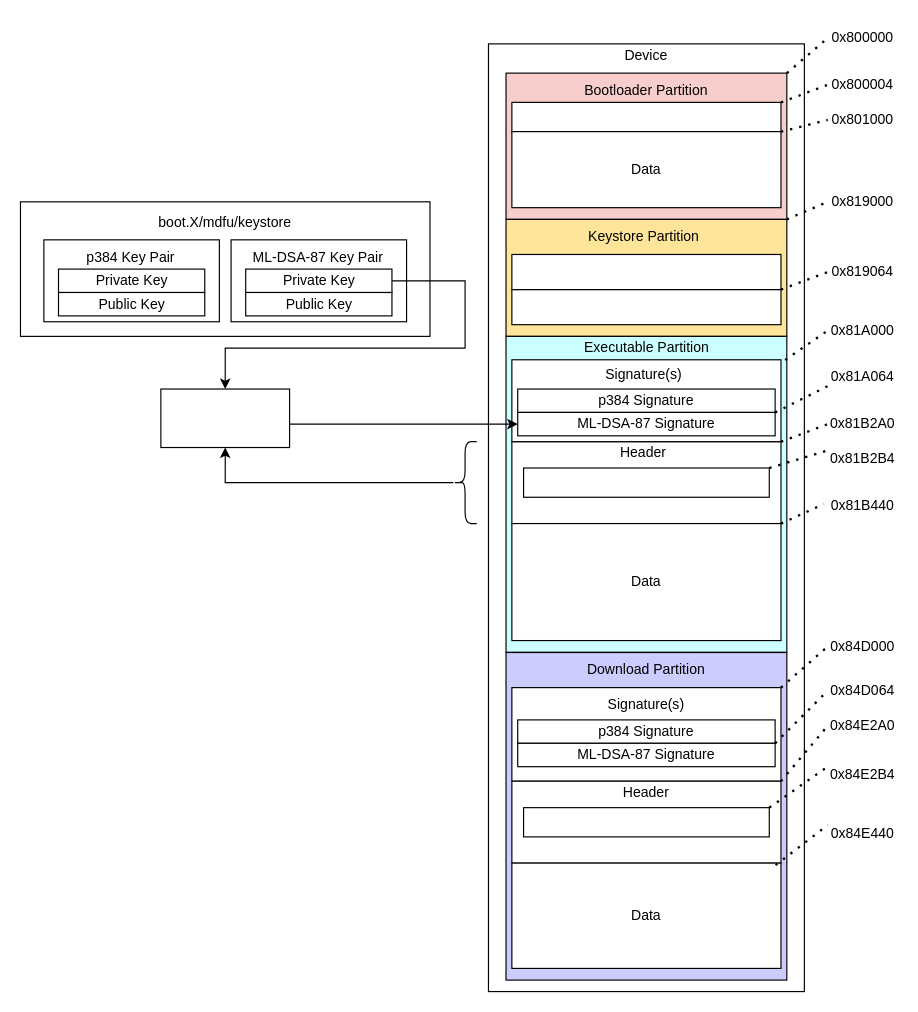
This 918x1012 diagram has some shape labels left out. The centre of each missing label's shape, as x and y in pixels:
"IVT" goes at (646,116).
"ML-DSA Sign PQC" goes at (225,418).
"ML-DSA-87 Public Key" goes at (646,306).
"p384 Public Key" goes at (646,271).
"SHA-512 Code Digest" goes at (645,482).
"SHA-512 Download Code Digest" goes at (645,821).
